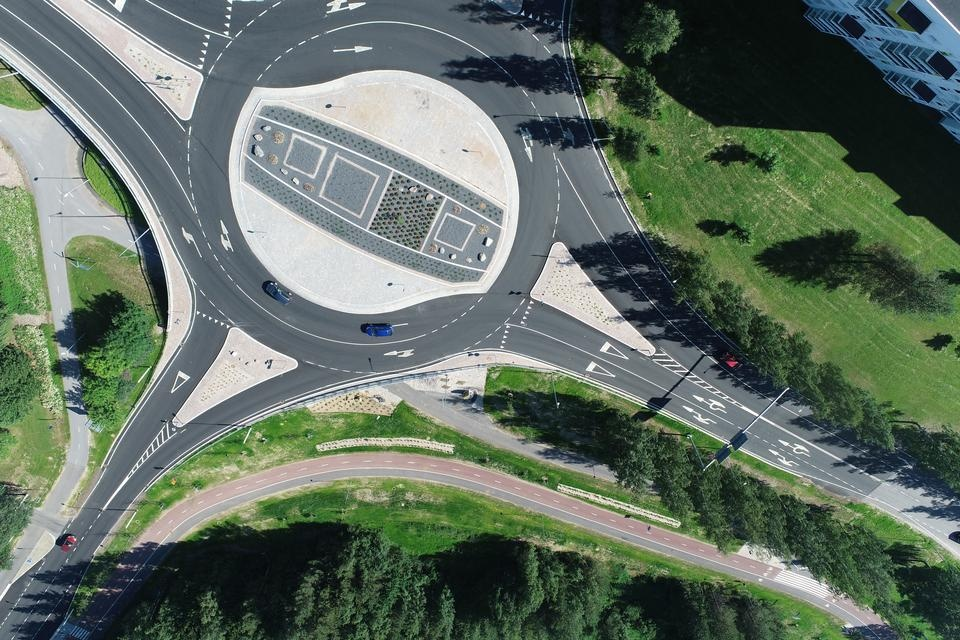roundabout: (126, 0, 630, 407)
